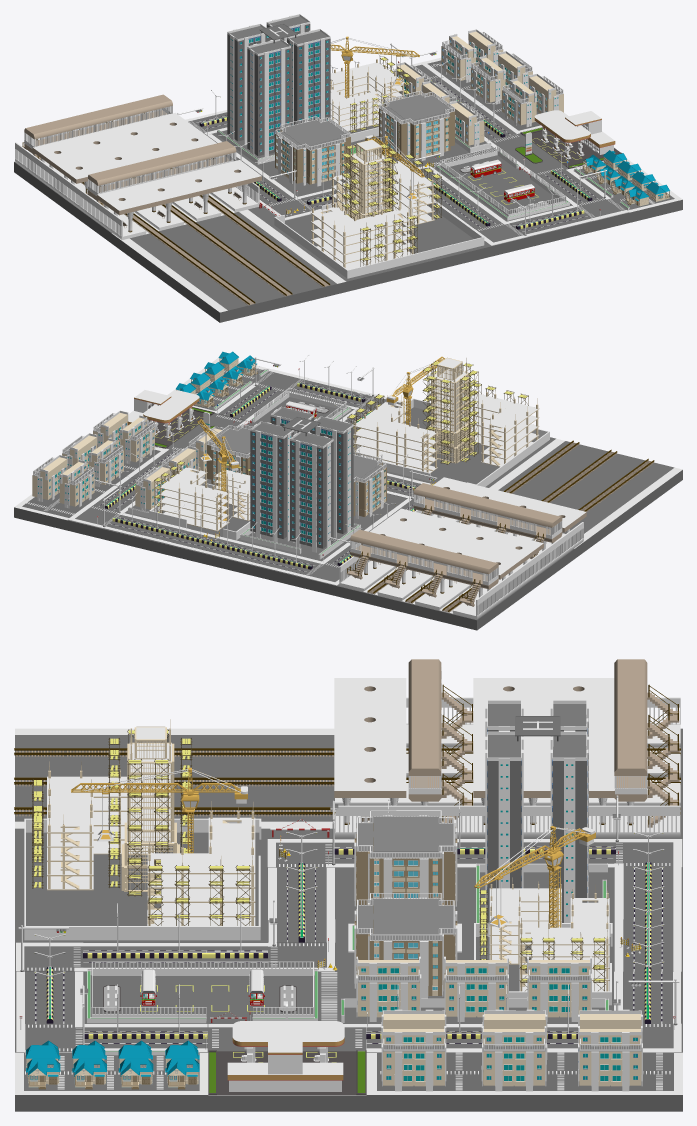
The model's file is mumbai_city-compressed.glb.
3 views of the same model, one above another, from view 1: azimuth 30°, elevation 25°; view 2: azimuth 150°, elevation 25°; view 3: azimuth 270°, elevation 25° (orthographic). The views are drawn at different scales.
Visible parts, largest first — view 1: citycitypolySurface9962_citycitycity1kharghar_stationlambert (×3), citycitycity1pCube1_citycitycity1Autumn_House1Autumn_HouseAu (×2), citycitycity1polySurface794_citycitycity1construction_buildi (×9), citycitypolySurface9842_citycitycity1city_of_dreams1lambert5, citycitypolySurface9842_citycitycity1city_of_dreams1lambert2, citypolySurface155, citycitycity1pCube7, citycitycity1polySurface8886_citycitycity1construction_build (×2), citycitycity1polySurface9134_citycitycity1construction_build (×2), polySurface75_citycitycity1Autumn_HouseAutumn_HouseAutumn_Ho (×2), citycitypolySurface9952_citycitycity1city_of_dreams1lambert5, polySurface74_citycitycity1Autumn_HouseAutumn_HouseAutumn_Ho (×2) (+30 smaller); view 2: citycitypolySurface9962_citycitycity1kharghar_stationlambert (×3), citycitycity1pCube1_citycitycity1Autumn_House1Autumn_HouseAu (×2), citycitycity1polySurface794_citycitycity1construction_buildi (×8), citycitypolySurface9952_citycitycity1city_of_dreams1lambert5, citycitypolySurface9952_citycitycity1city_of_dreams1lambert2, citycitycity1polySurface8886_citycitycity1construction_build (×2), citypolySurface155, citycitypolySurface9842_citycitycity1city_of_dreams1lambert5, citycitycity1polySurface9134_citycitycity1construction_build (×2), citycitypolySurface9842_citycitycity1city_of_dreams1lambert2, citycitycity1pCube7, citycitypolySurface9952_citycitycity1city_of_dreams1lambert4 (+36 smaller); view 3: citycitycity1pCube1_citycitycity1Autumn_House1Autumn_HouseAu (×2), citycitypolySurface9962_citycitycity1kharghar_stationlambert (×3), citycitycity1polySurface794_citycitycity1construction_buildi (×10), citypolySurface155, citycitycity1polySurface8886_citycitycity1construction_build (×3), citycitycity1pCube7, citycitycity1pCube1, citycitypolySurface9842_citycitycity1city_of_dreams1lambert5, citycitypolySurface9952_citycitycity1city_of_dreams1lambert5, polySurface74, citycitycity1polySurface11106_citycitycity1Autumn_House1Autu (×3), polySurface75 (+55 smaller).
Part boxes in pixels (bbox=[...]): citycitypolySurface9962_citycitycity1kharghar_stationlambert (×3): bbox=[15, 94, 314, 284]; citycitycity1pCube1_citycitycity1Autumn_House1Autumn_HouseAu (×2): bbox=[14, 57, 682, 322]; citycitycity1polySurface794_citycitycity1construction_buildi (×9): bbox=[310, 135, 441, 269]; citycitypolySurface9842_citycitycity1city_of_dreams1lambert5: bbox=[247, 31, 330, 155]; citycitypolySurface9842_citycitycity1city_of_dreams1lambert2: bbox=[247, 29, 330, 156]; citypolySurface155: bbox=[486, 110, 622, 173]; citycitycity1pCube7: bbox=[274, 196, 484, 278]; citycitycity1polySurface8886_citycitycity1construction_build (×2): bbox=[330, 59, 404, 107]; citycitycity1polySurface9134_citycitycity1construction_build (×2): bbox=[330, 82, 386, 131]; polySurface75_citycitycity1Autumn_HouseAutumn_HouseAutumn_Ho (×2): bbox=[379, 104, 454, 158]; citycitypolySurface9952_citycitycity1city_of_dreams1lambert5: bbox=[227, 16, 310, 141]; polySurface74_citycitycity1Autumn_HouseAutumn_HouseAutumn_Ho (×2): bbox=[275, 129, 350, 184]; citycitypolySurface9962_citycitycity1kharghar_stationlambert (×3): bbox=[339, 452, 617, 619]; citycitycity1pCube1_citycitycity1Autumn_House1Autumn_HouseAu (×2): bbox=[14, 358, 682, 630]; citycitycity1polySurface794_citycitycity1construction_buildi (×8): bbox=[347, 356, 539, 472]; citycitypolySurface9952_citycitycity1city_of_dreams1lambert5: bbox=[250, 423, 333, 548]; citycitypolySurface9952_citycitycity1city_of_dreams1lambert2: bbox=[250, 421, 333, 552]; citycitycity1polySurface8886_citycitycity1construction_build (×2): bbox=[159, 459, 229, 531]; citypolySurface155: bbox=[134, 390, 248, 448]; citycitypolySurface9842_citycitycity1city_of_dreams1lambert5: bbox=[270, 409, 353, 533]; citycitycity1polySurface9134_citycitycity1construction_build (×2): bbox=[214, 465, 250, 520]; citycitypolySurface9842_citycitycity1city_of_dreams1lambert2: bbox=[270, 406, 353, 537]; citycitycity1pCube7: bbox=[353, 398, 549, 486]; citycitypolySurface9952_citycitycity1city_of_dreams1lambert4: bbox=[252, 433, 329, 544]; citycitycity1pCube1_citycitycity1Autumn_House1Autumn_HouseAu (×2): bbox=[15, 728, 682, 1111]; citycitypolySurface9962_citycitycity1kharghar_stationlambert (×3): bbox=[174, 659, 680, 837]; citycitycity1polySurface794_citycitycity1construction_buildi (×10): bbox=[32, 719, 255, 925]; citypolySurface155: bbox=[208, 1021, 366, 1095]; citycitycity1polySurface8886_citycitycity1construction_build (×3): bbox=[519, 884, 609, 991]; citycitycity1pCube7: bbox=[24, 818, 261, 940]; citycitycity1pCube1: bbox=[377, 1053, 673, 1090]; citycitypolySurface9842_citycitycity1city_of_dreams1lambert5: bbox=[487, 704, 521, 922]; citycitypolySurface9952_citycitycity1city_of_dreams1lambert5: bbox=[552, 704, 588, 922]; polySurface74: bbox=[356, 810, 455, 860]; citycitycity1polySurface11106_citycitycity1Autumn_House1Autu (×3): bbox=[26, 1058, 199, 1088]; polySurface75: bbox=[356, 893, 455, 940].
Size of the model in its own units: 3.04 by 0.744 by 2.33.
